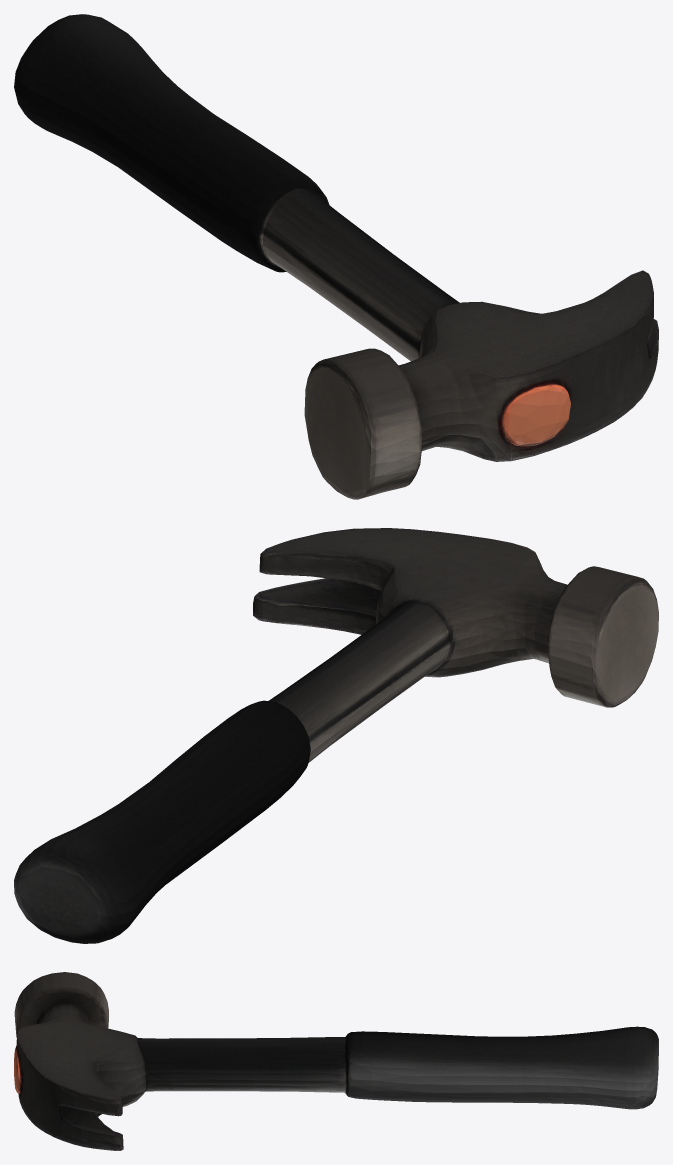
File: manganeso.fbx
The picture shows the model from 3 angles, top to bottom: view 1: azimuth 30°, elevation 25°; view 2: azimuth 150°, elevation 25°; view 3: azimuth 270°, elevation 25°; orthographic projection. The views are drawn at different scales.
Parts seen in each view (by area): view 1: geometry_0.001; view 2: geometry_0.001; view 3: geometry_0.001.
Part boxes in pixels (x1=…): geometry_0.001: x1=14, y1=14, x2=658, y2=499; geometry_0.001: x1=14, y1=528, x2=658, y2=943; geometry_0.001: x1=14, y1=972, x2=658, y2=1150.
Size of the model in its own units: 0.194 by 0.0666 by 0.4443.
Materials: 1 (1 with a texture image).
